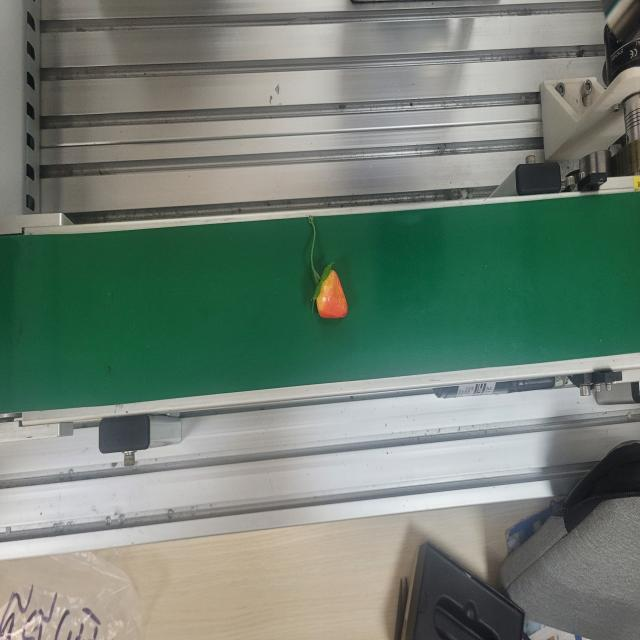Small Unripe Strawberry: (311, 259, 350, 324)
